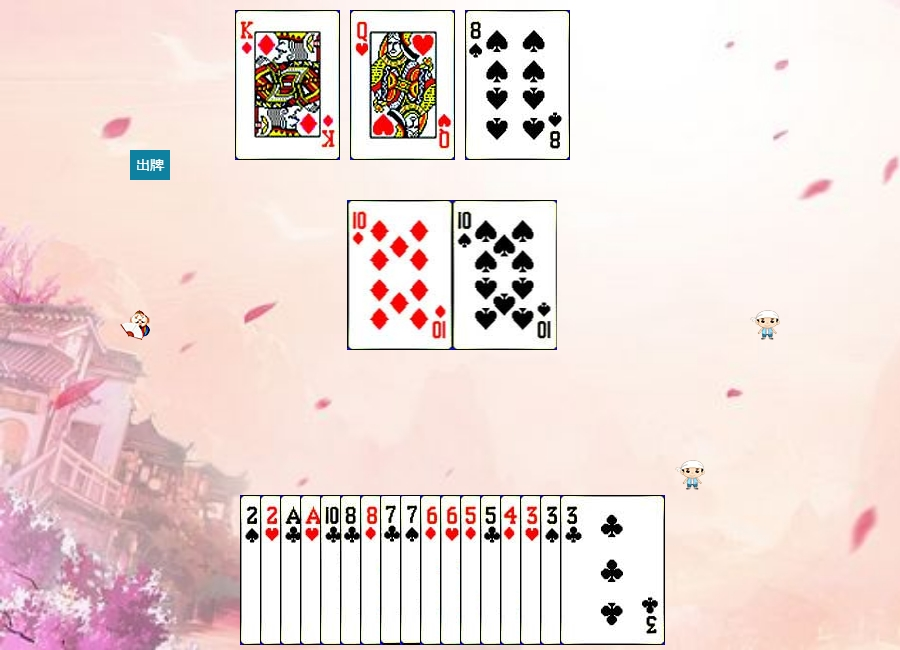10~1: (348, 200, 453, 350)
10~2: (320, 495, 425, 645)
10~4: (453, 200, 558, 350)
12~3: (350, 10, 455, 160)
13~1: (235, 10, 340, 160)
14~2: (280, 495, 385, 645)
14~3: (300, 495, 405, 645)
15~3: (260, 495, 365, 645)
15~4: (240, 495, 345, 645)
3~2: (560, 495, 665, 645)
3~3: (520, 495, 625, 645)
3~4: (540, 495, 645, 645)
4~1: (500, 495, 605, 645)
5~1: (460, 495, 565, 645)
5~2: (480, 495, 585, 645)
6~1: (420, 495, 525, 645)
6~3: (440, 495, 545, 645)
7~2: (380, 495, 485, 645)
7~4: (400, 495, 505, 645)
8~1: (360, 495, 465, 645)
8~2: (340, 495, 445, 645)
8~4: (465, 10, 570, 160)
